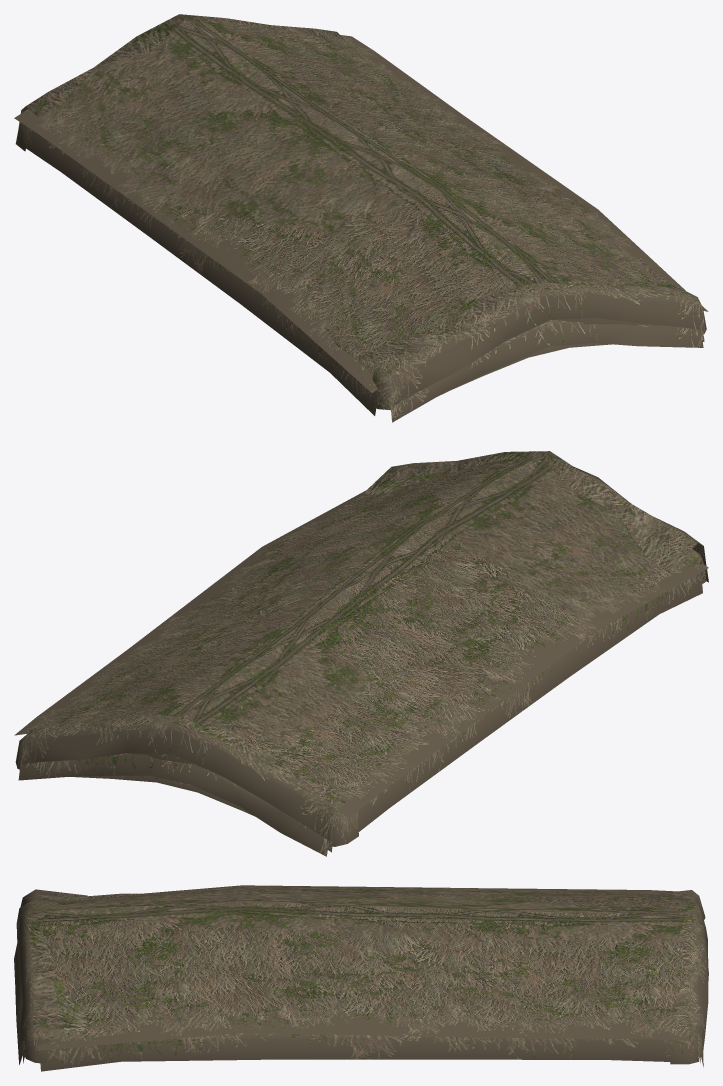
Rendered from SM_Ev_Cati.fbx.
The picture shows the model from 3 angles, top to bottom: view 1: azimuth 30°, elevation 25°; view 2: azimuth 150°, elevation 25°; view 3: azimuth 270°, elevation 25°; orthographic projection. The views are drawn at different scales.
Visible parts, largest first — view 1: SM_Ev.004; view 2: SM_Ev.004; view 3: SM_Ev.004.
Boxes of the visible parts, x1,y1,x2,y2 form: SM_Ev.004: [14, 14, 708, 422]; SM_Ev.004: [14, 451, 708, 856]; SM_Ev.004: [14, 885, 708, 1071].
Bounding box in the file's own units: 336 × 102 × 659.
